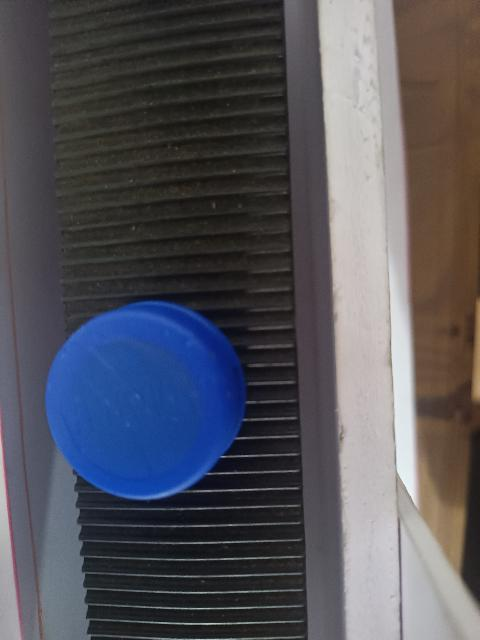bottlecap: (46, 297, 248, 505)
